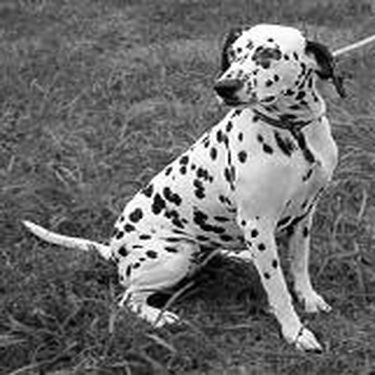dog: (13, 10, 356, 358)
